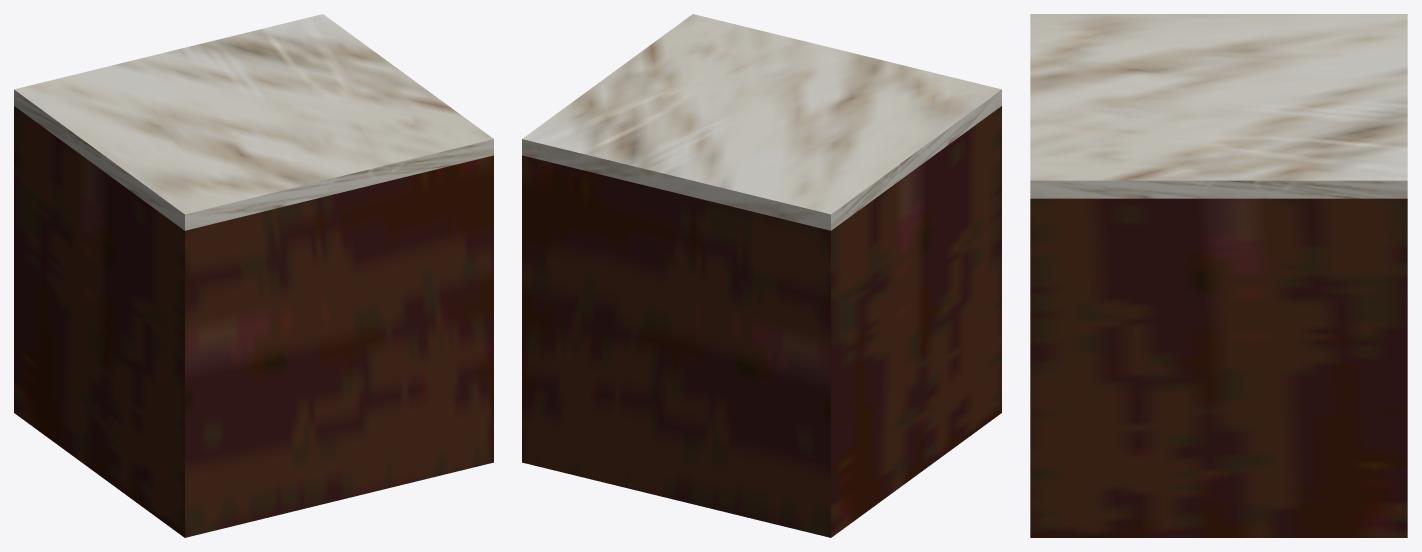
The model's file is KitchenElement.fbx.
3 renders of one model, left to right at view 1: azimuth 30°, elevation 25°; view 2: azimuth 150°, elevation 25°; view 3: azimuth 270°, elevation 25°, orthographic. The views are drawn at different scales.
Parts seen in each view (by area): view 1: KitchenElement; view 2: KitchenElement; view 3: KitchenElement.
Part boxes in pixels (box(x1,y1,x2,y2)): KitchenElement: box(14, 14, 493, 537); KitchenElement: box(522, 14, 1001, 537); KitchenElement: box(1030, 14, 1407, 537).
Bounding box in the file's own units: 100 × 100 × 95.73.
